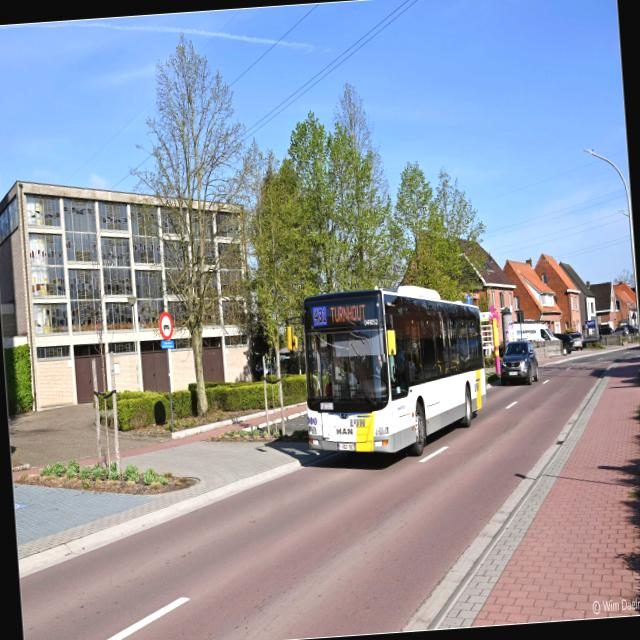bus-number: (312, 306, 326, 325)
